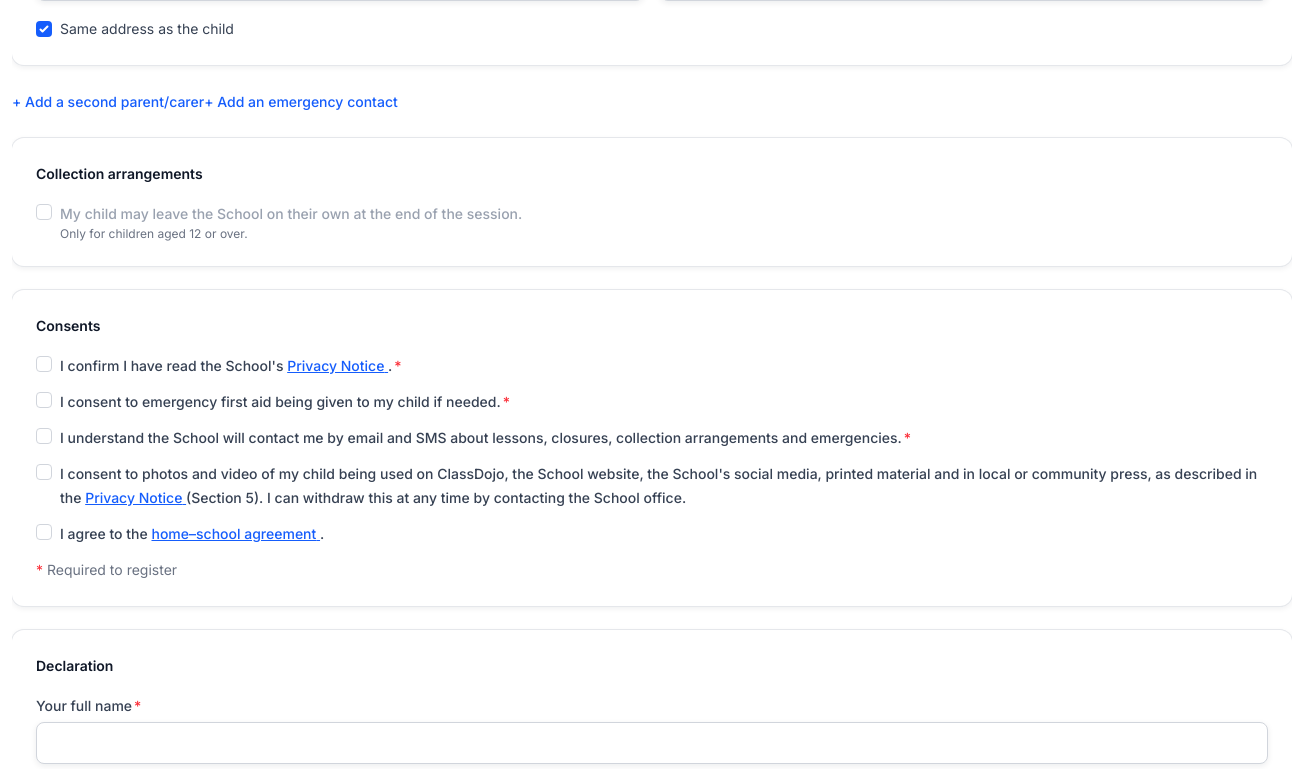
Scenario: RegistrationForm › consents › blocks submission and announces the message on each unticked required box
The width and height of the screenshot is (1292, 769).
(page scrolled)
Click the 4th checkbox at (44, 400), box [36,392,52,408]
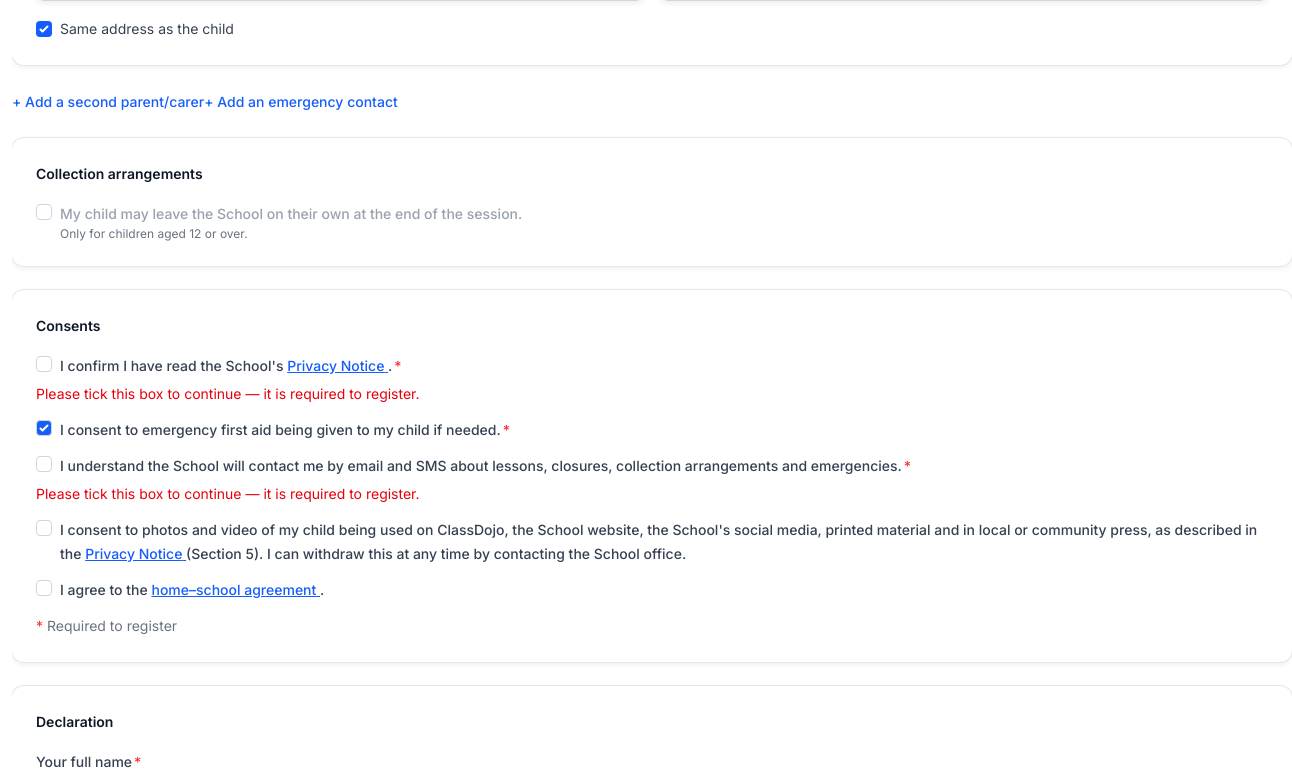
Check: the messages read "Please tick this box to continue — it is required to register.", "Please tick this box to continue — it is required to register.", in this order, box [36,385,420,402]; [36,485,420,502]
Check: the message "Please tick this box to continue — it is required to register." below "I confirm I have read the School's" is shown, box [36,385,420,402]
